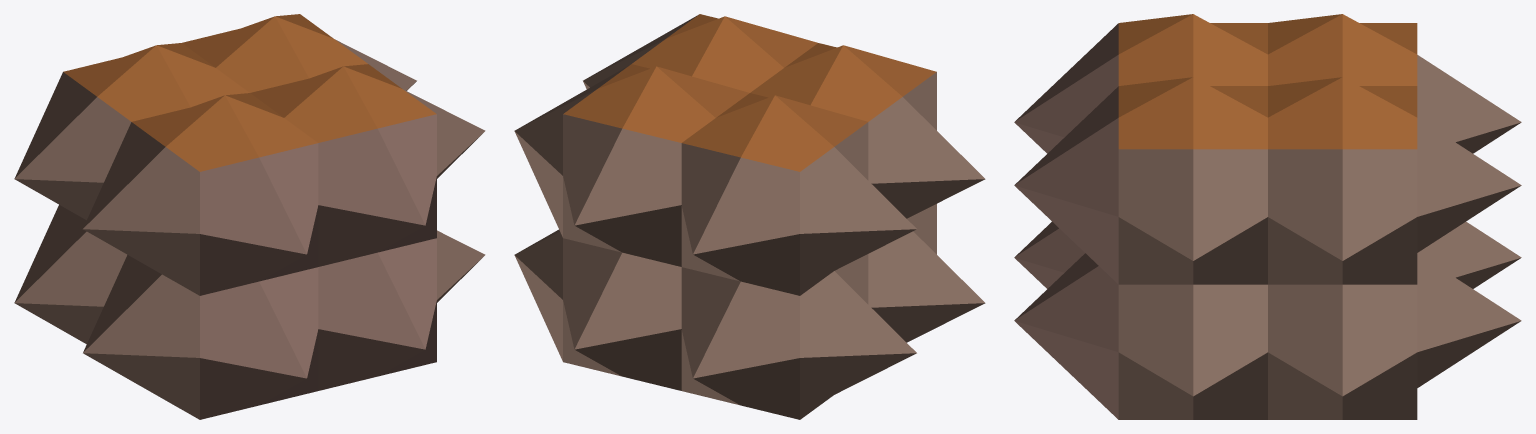
File: SpikeBox.fbx
The picture shows the model from 3 angles, left to right: view 1: azimuth 30°, elevation 25°; view 2: azimuth 150°, elevation 25°; view 3: azimuth 270°, elevation 25°; orthographic projection. The views are drawn at different scales.
Visible parts, largest first — view 1: Cube; view 2: Cube; view 3: Cube.
Part boxes in pixels (x1,y1,x2,y2): Cube: (14, 14, 485, 419); Cube: (514, 14, 985, 419); Cube: (1014, 14, 1521, 419).
Size of the model in its own units: 340 by 230 by 340.
Materials: 1 (1 with a texture image).
